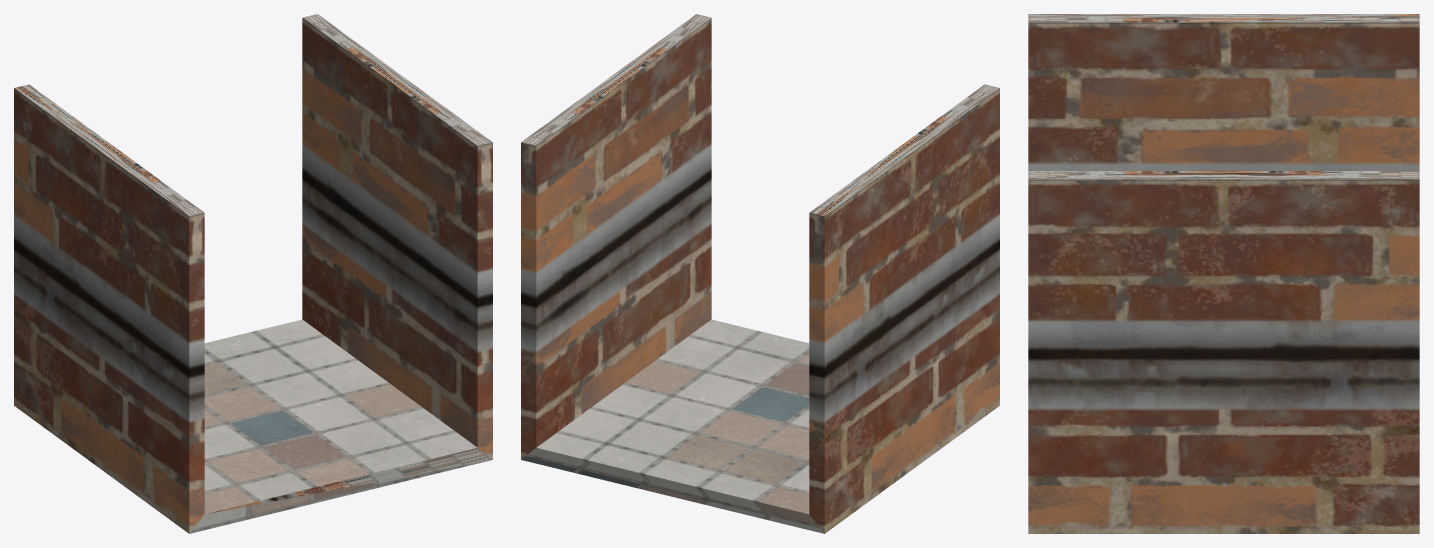
File: tile1.dae
The picture shows the model from 3 angles, left to right: view 1: azimuth 30°, elevation 25°; view 2: azimuth 150°, elevation 25°; view 3: azimuth 270°, elevation 25°; orthographic projection. The views are drawn at different scales.
Parts seen in each view (by area): view 1: Cube.001; view 2: Cube.001; view 3: Cube.001.
Part boxes in pixels (x1=…): Cube.001: x1=14, y1=14, x2=492, y2=533; Cube.001: x1=521, y1=14, x2=999, y2=533; Cube.001: x1=1028, y1=14, x2=1419, y2=533.
Bounding box in the file's own units: 5 × 5 × 5.
1 material, 1 textured.
